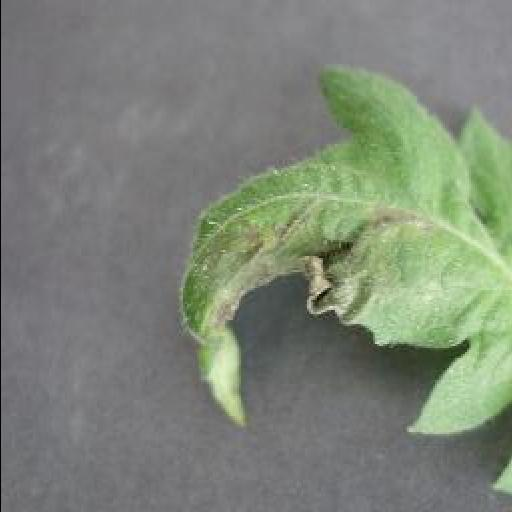disease_tomato: (172, 62, 512, 438)
